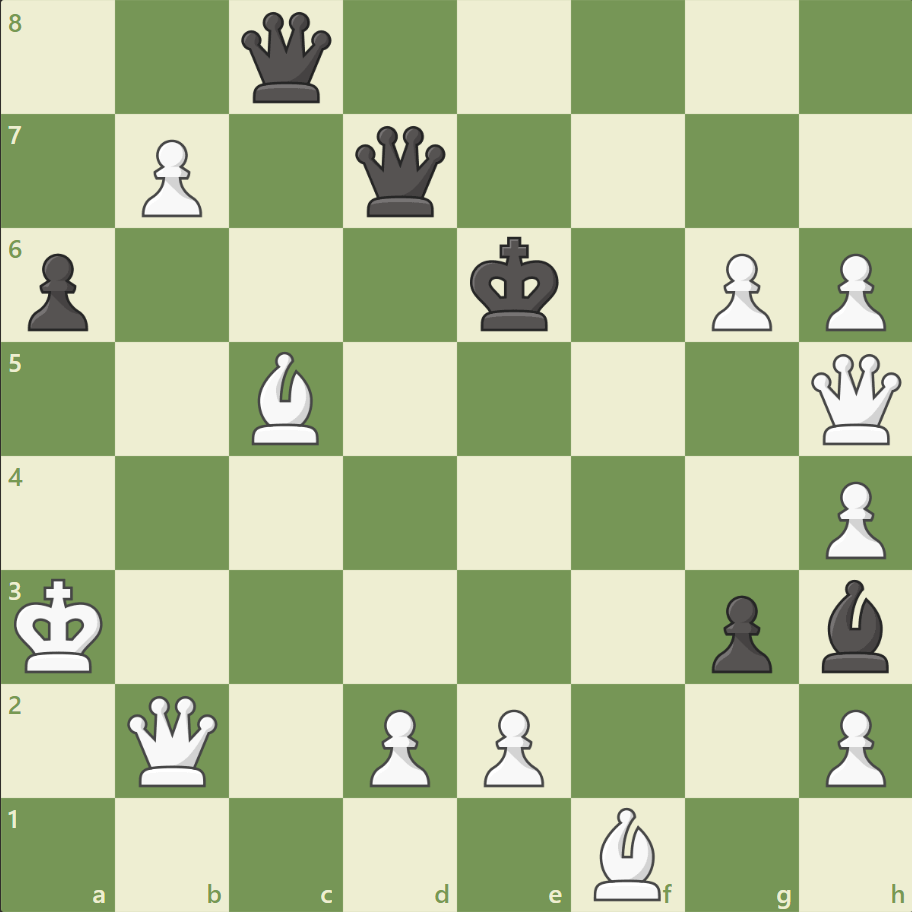B: (585, 801, 669, 904), (244, 347, 328, 449)
K: (11, 571, 111, 679)
P: (133, 132, 208, 223), (701, 246, 776, 337), (474, 700, 549, 791), (815, 246, 889, 337), (815, 473, 889, 564), (361, 700, 435, 791), (815, 700, 889, 791)
Q: (805, 349, 904, 449), (124, 690, 223, 789)
b: (812, 574, 896, 676)
k: (465, 231, 565, 339)
p: (20, 246, 95, 337), (701, 586, 776, 677)
q: (351, 122, 450, 222), (237, 9, 336, 108)
